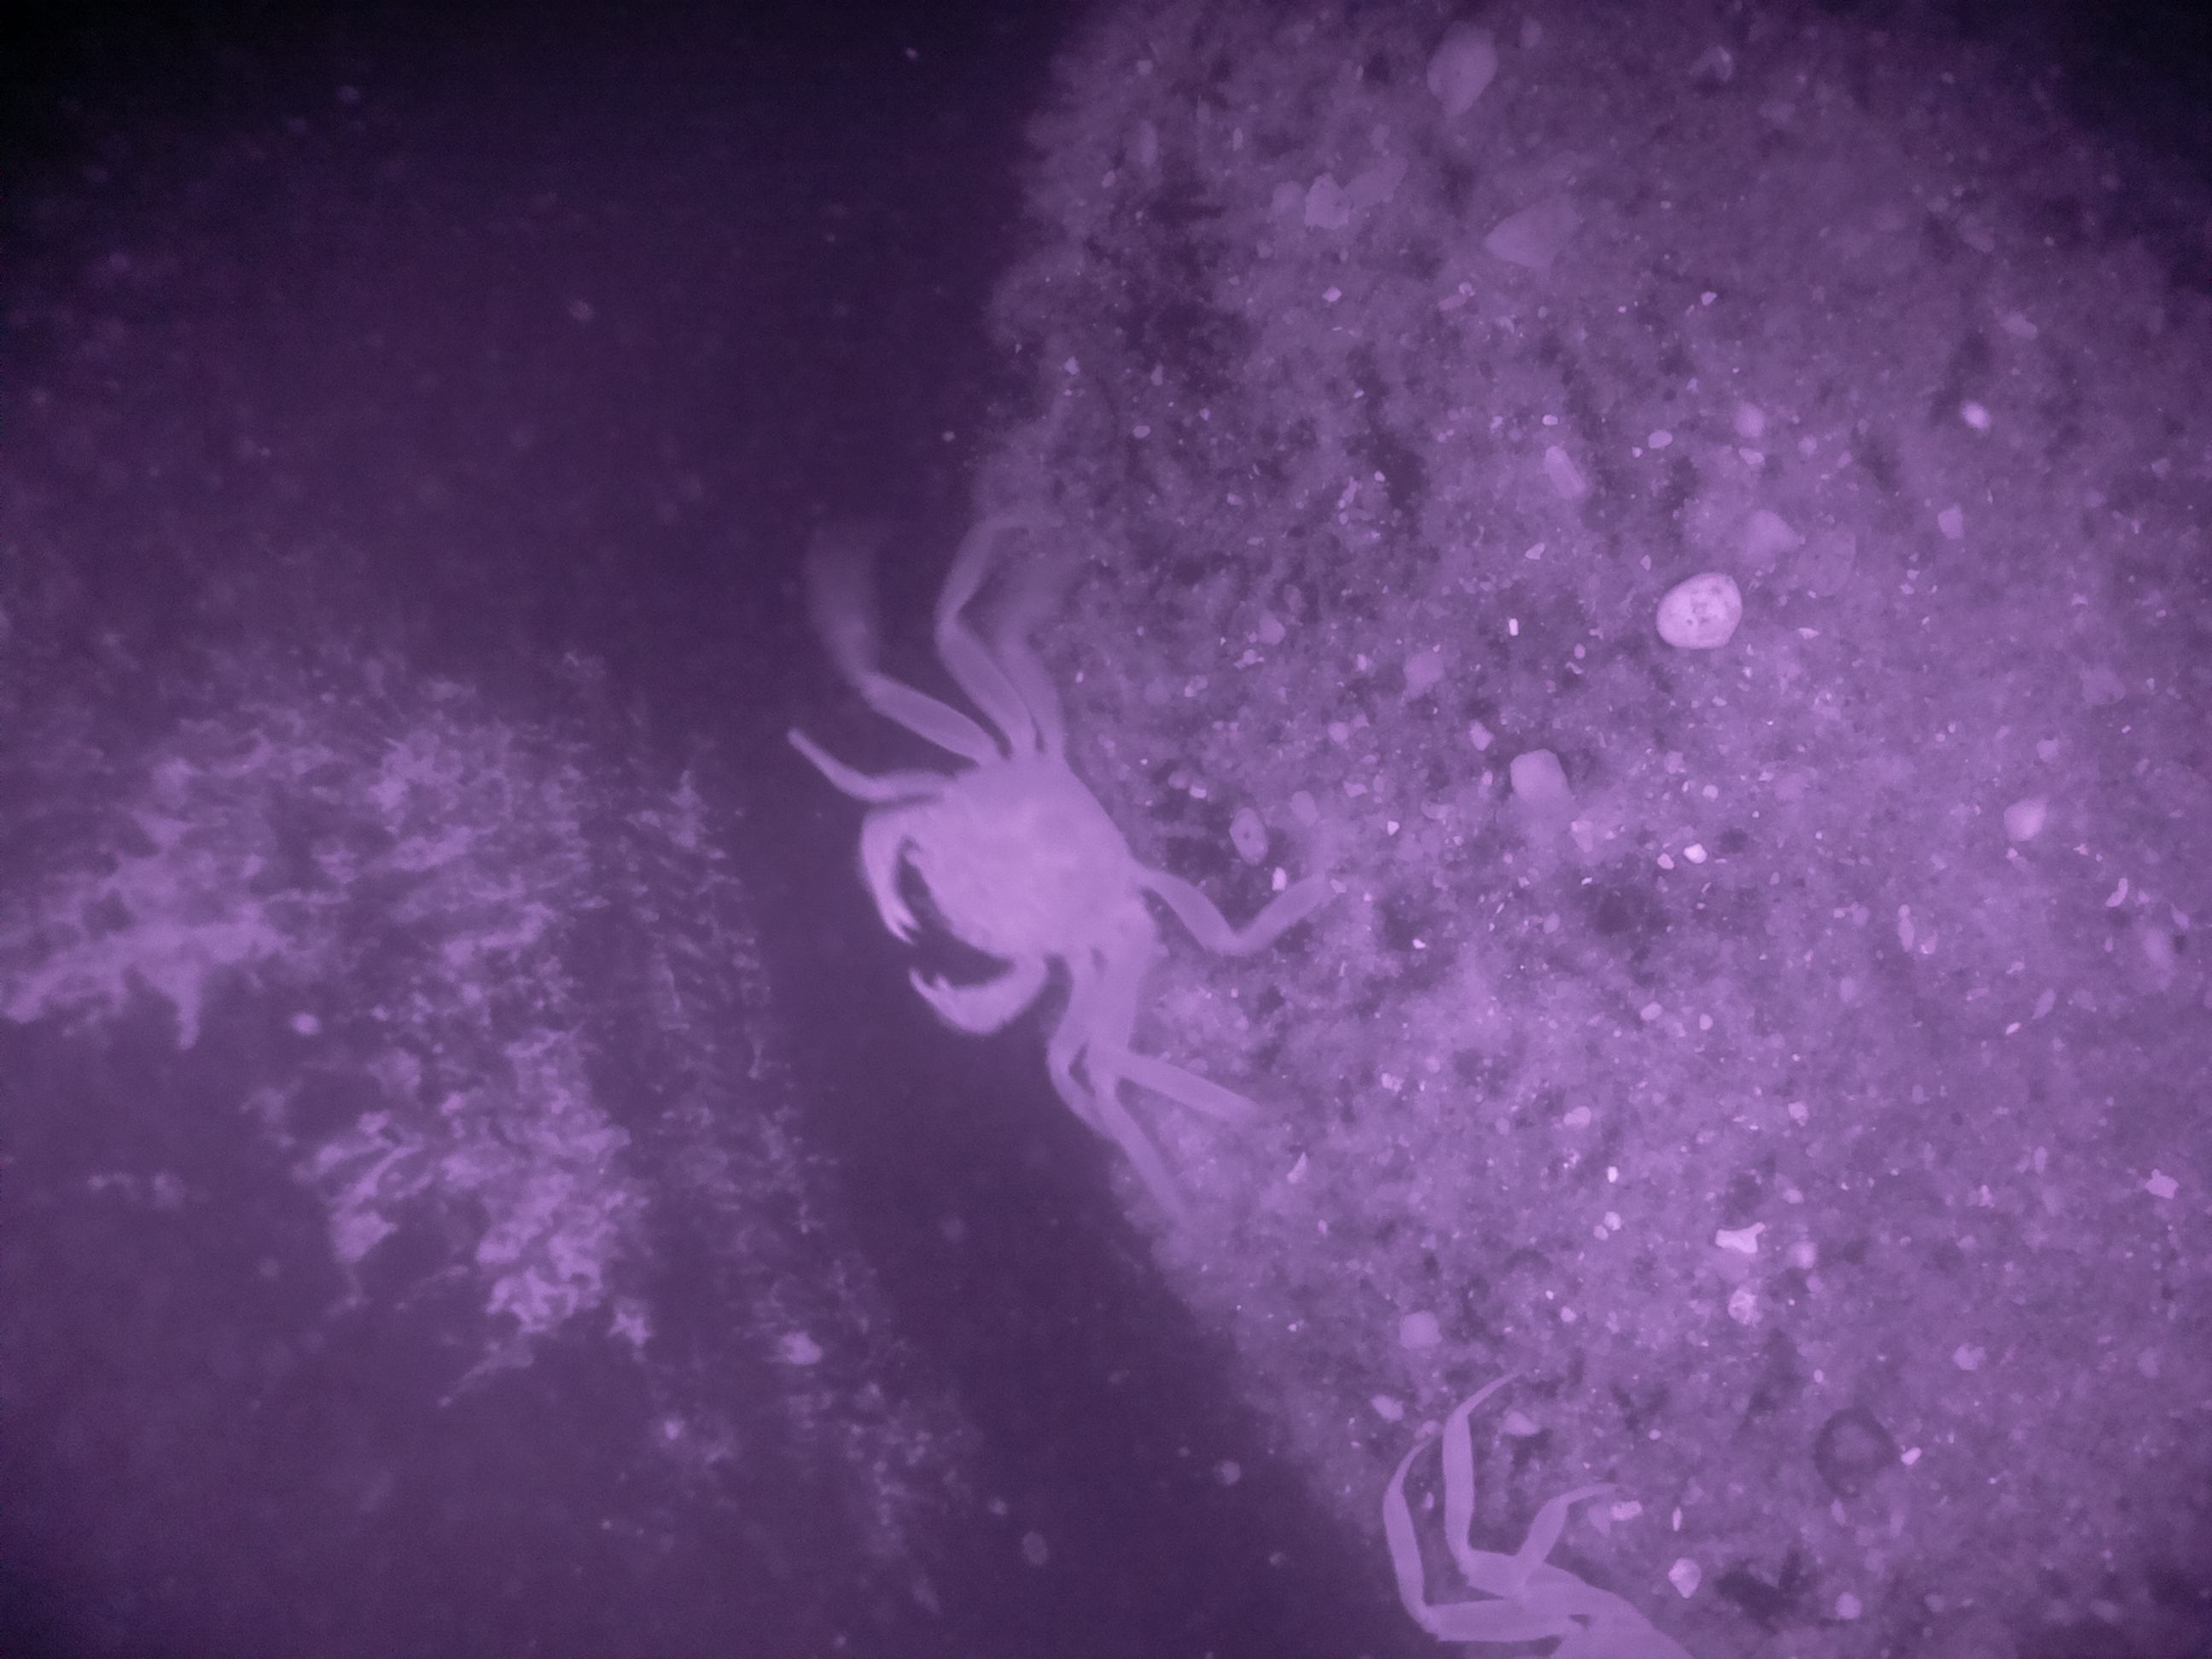Crab: (752, 676, 1291, 1131)
